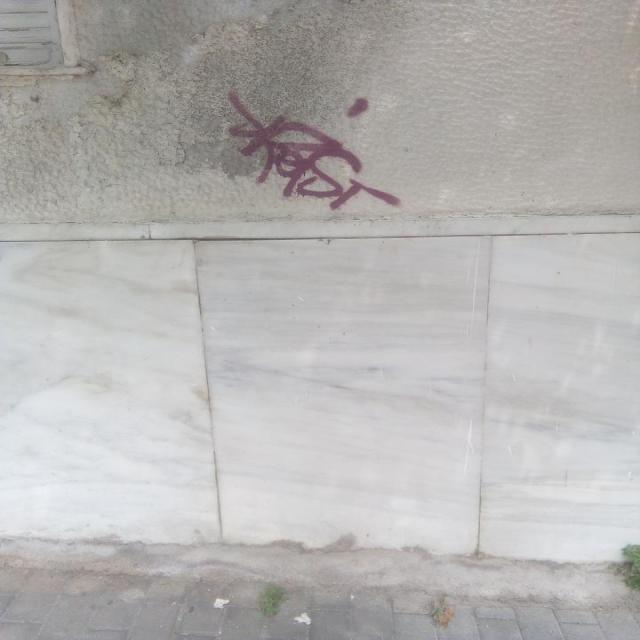nonspitting: (224, 89, 399, 209)
